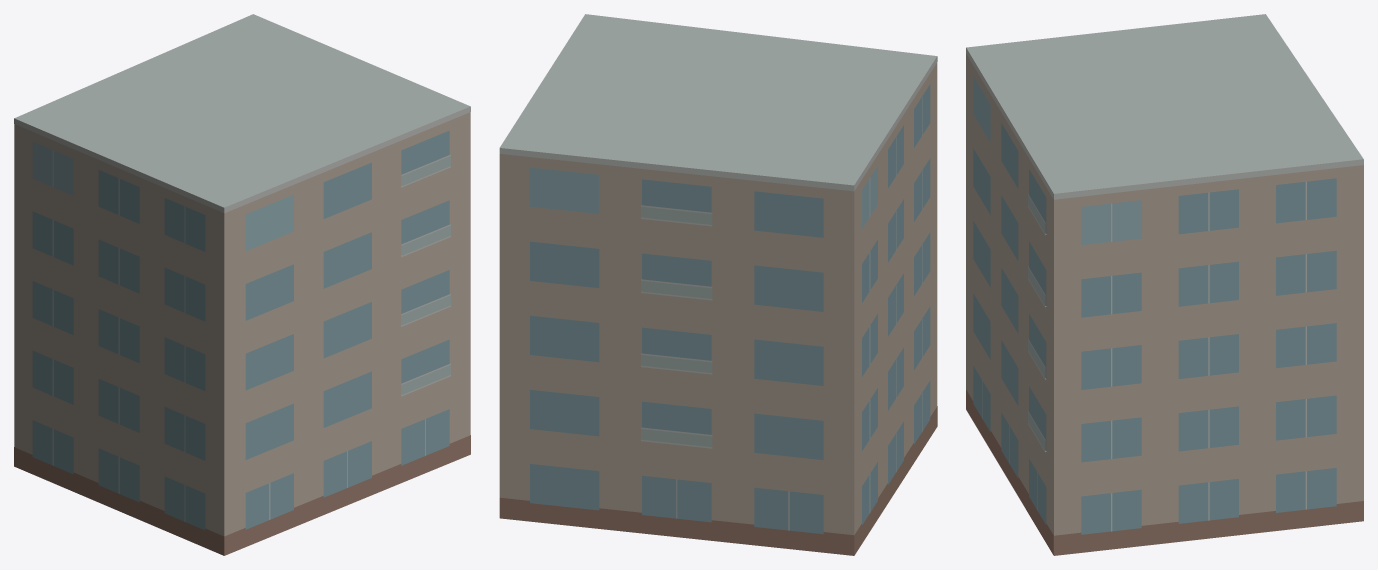
Rendered from survey-upis-32920479.glb.
The picture shows the model from 3 angles, left to right: view 1: azimuth 30°, elevation 25°; view 2: azimuth 150°, elevation 25°; view 3: azimuth 270°, elevation 25°; orthographic projection. The views are drawn at different scales.
Visible parts, largest first — view 1: survey-upis-32920479.tmp; view 2: survey-upis-32920479.tmp; view 3: survey-upis-32920479.tmp.
Boxes of the visible parts, x1,y1,x2,y2 form: survey-upis-32920479.tmp: (14, 14, 470, 555); survey-upis-32920479.tmp: (499, 14, 937, 555); survey-upis-32920479.tmp: (966, 14, 1363, 555).
Bounding box in the file's own units: 16.27 × 15.25 × 15.2.
